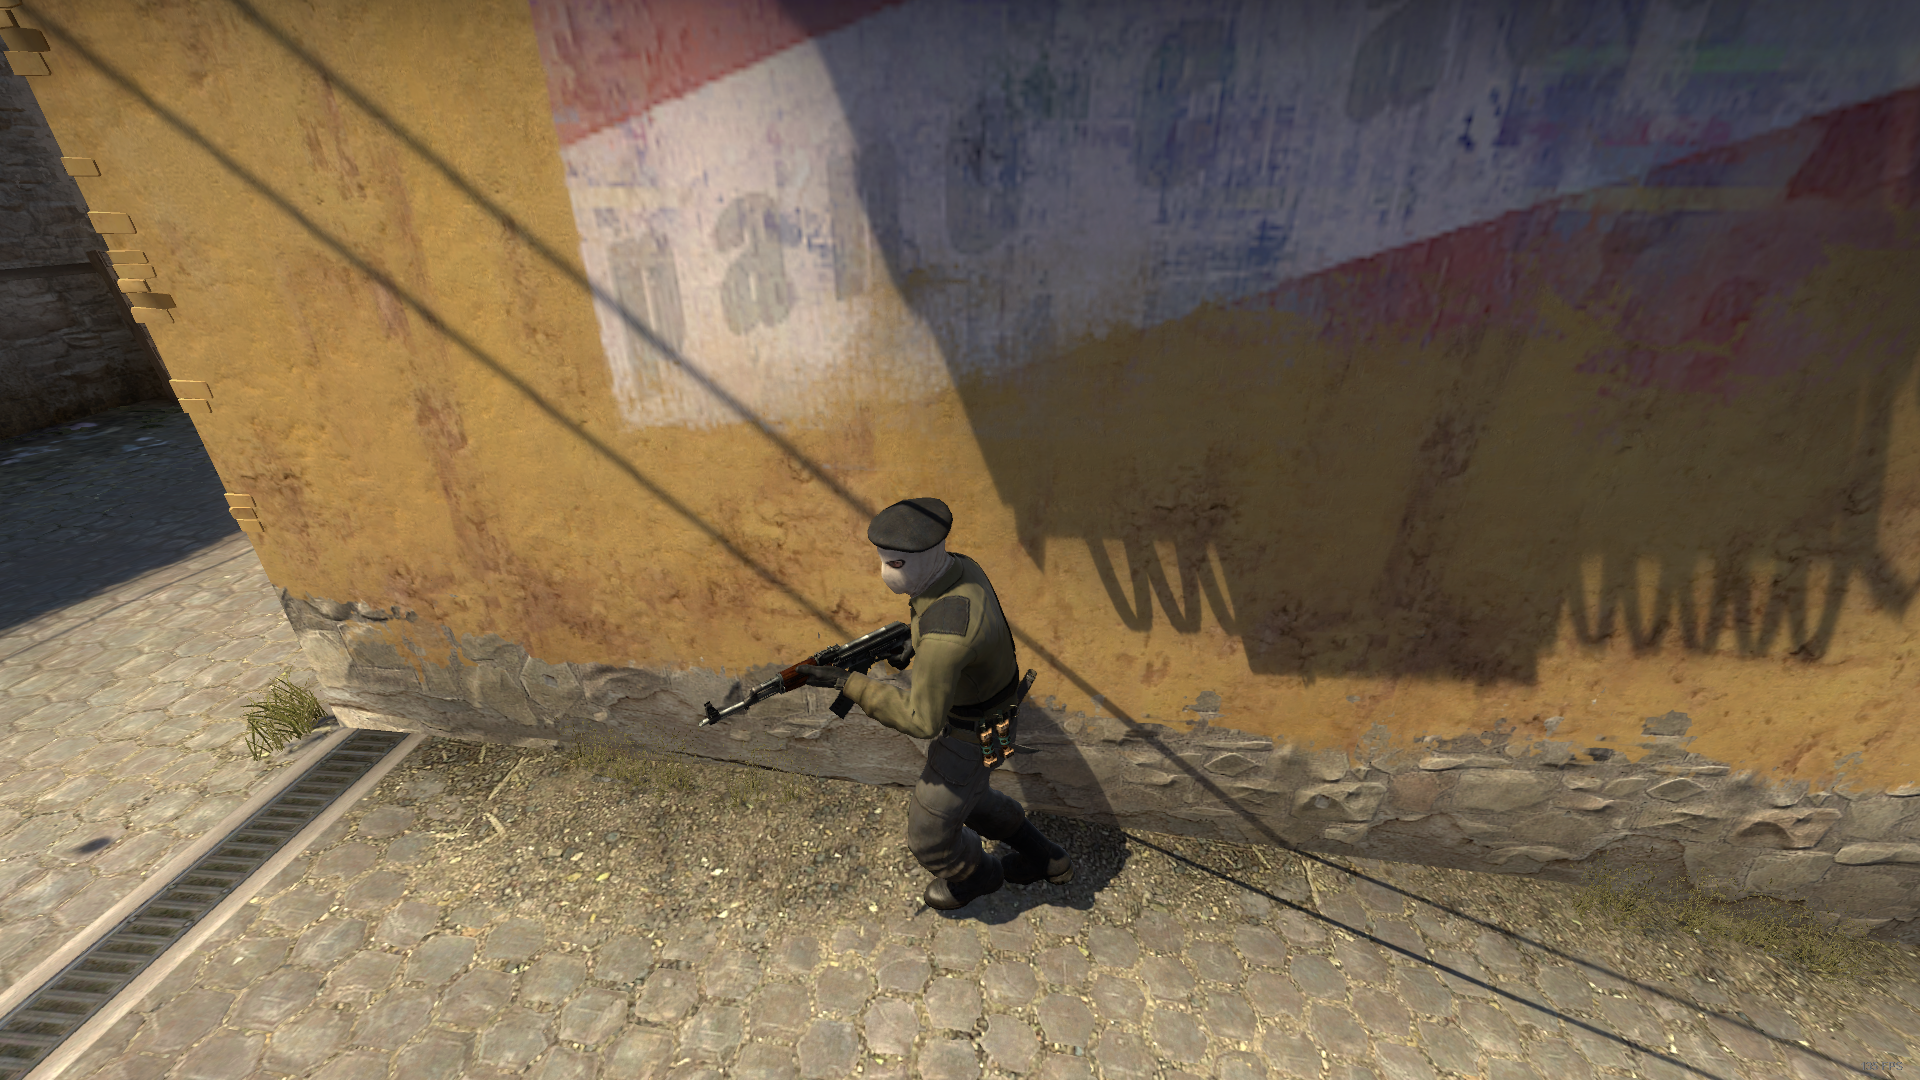t: (804, 498, 1073, 910)
